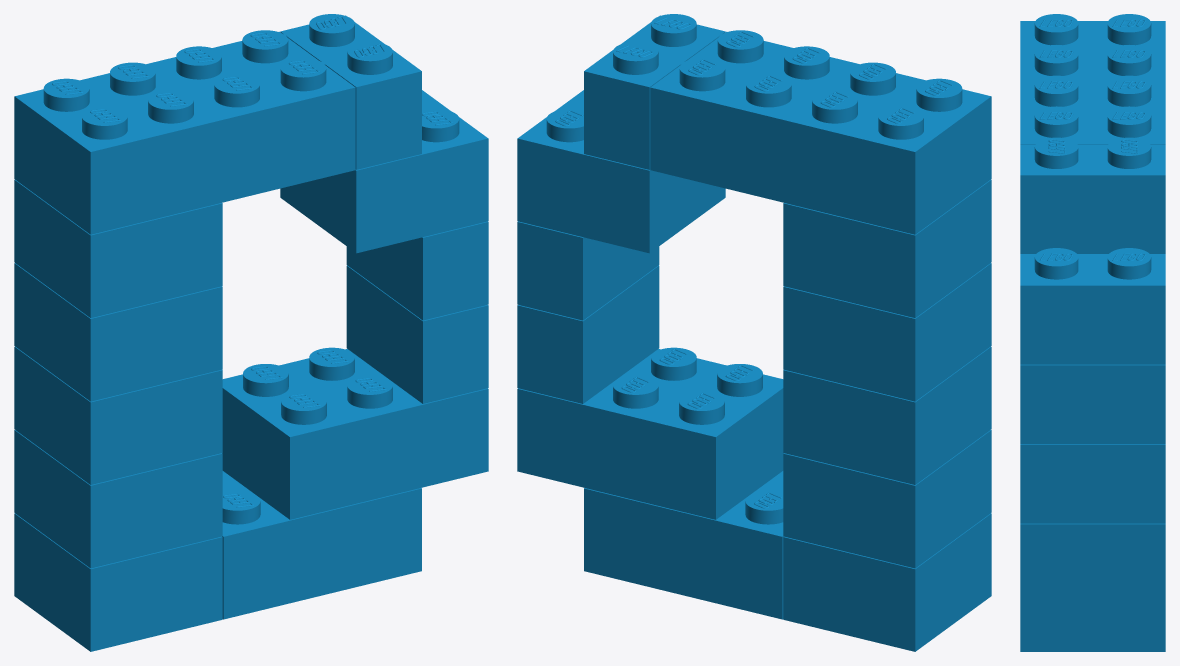
The picture shows the model from 3 angles, left to right: view 1: azimuth 30°, elevation 25°; view 2: azimuth 150°, elevation 25°; view 3: azimuth 270°, elevation 25°; orthographic projection. The views are drawn at different scales.
Visible parts, largest first — view 1: Inner-Node-D_dot_io-10, Inner-Node-D_dot_io-6, Inner-Node-D_dot_io-7, Inner-Node-D_dot_io-5, Inner-Node-D_dot_io-2, Inner-Node-D_dot_io-3, Inner-Node-D_dot_io-0, Inner-Node-D_dot_io-1, Inner-Node-D_dot_io-4, Inner-Node-D_dot_io-8, Inner-Node-D_dot_io-11, Inner-Node-D_dot_io-9; view 2: Inner-Node-D_dot_io-10, Inner-Node-D_dot_io-6, Inner-Node-D_dot_io-7, Inner-Node-D_dot_io-5, Inner-Node-D_dot_io-2, Inner-Node-D_dot_io-3, Inner-Node-D_dot_io-0, Inner-Node-D_dot_io-1, Inner-Node-D_dot_io-4, Inner-Node-D_dot_io-8, Inner-Node-D_dot_io-11, Inner-Node-D_dot_io-9; view 3: Inner-Node-D_dot_io-10, Inner-Node-D_dot_io-4, Inner-Node-D_dot_io-11, Inner-Node-D_dot_io-6, Inner-Node-D_dot_io-9, Inner-Node-D_dot_io-8, Inner-Node-D_dot_io-7.
Boxes of the visible parts, <box> form: Inner-Node-D_dot_io-10: <box>14,30,355,234</box>; Inner-Node-D_dot_io-6: <box>222,347,488,519</box>; Inner-Node-D_dot_io-7: <box>222,471,421,619</box>; Inner-Node-D_dot_io-5: <box>14,346,222,484</box>; Inner-Node-D_dot_io-2: <box>14,513,222,651</box>; Inner-Node-D_dot_io-3: <box>14,179,222,317</box>; Inner-Node-D_dot_io-0: <box>14,430,222,568</box>; Inner-Node-D_dot_io-1: <box>14,263,222,401</box>; Inner-Node-D_dot_io-4: <box>280,90,488,253</box>; Inner-Node-D_dot_io-8: <box>346,265,488,403</box>; Inner-Node-D_dot_io-11: <box>280,14,421,169</box>; Inner-Node-D_dot_io-9: <box>346,221,488,320</box>; Inner-Node-D_dot_io-10: <box>650,30,991,234</box>; Inner-Node-D_dot_io-6: <box>517,347,783,519</box>; Inner-Node-D_dot_io-7: <box>584,471,783,619</box>; Inner-Node-D_dot_io-5: <box>783,346,991,484</box>; Inner-Node-D_dot_io-2: <box>783,513,991,651</box>; Inner-Node-D_dot_io-3: <box>783,179,991,317</box>; Inner-Node-D_dot_io-0: <box>783,430,991,568</box>; Inner-Node-D_dot_io-1: <box>783,263,991,401</box>; Inner-Node-D_dot_io-4: <box>517,90,725,253</box>; Inner-Node-D_dot_io-8: <box>517,265,659,403</box>; Inner-Node-D_dot_io-11: <box>584,14,725,169</box>; Inner-Node-D_dot_io-9: <box>517,221,659,320</box>; Inner-Node-D_dot_io-10: <box>1020,14,1165,144</box>; Inner-Node-D_dot_io-4: <box>1020,248,1165,364</box>; Inner-Node-D_dot_io-11: <box>1020,137,1165,253</box>; Inner-Node-D_dot_io-6: <box>1020,523,1165,603</box>; Inner-Node-D_dot_io-9: <box>1020,364,1165,444</box>; Inner-Node-D_dot_io-8: <box>1020,444,1165,523</box>; Inner-Node-D_dot_io-7: <box>1020,603,1165,651</box>.
Bounding box in the file's own units: 120 × 148 × 39.75.
